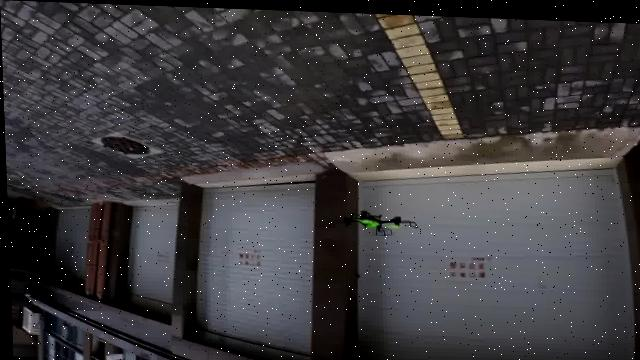drone: (315, 195, 435, 244)
